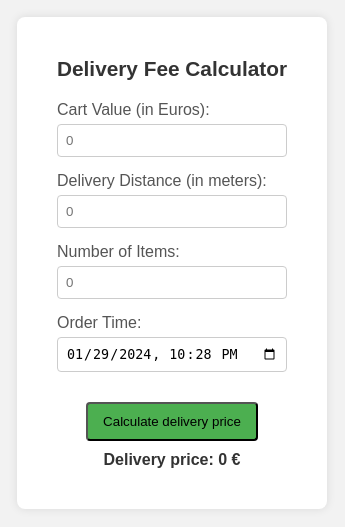
Scenario: Cart value surcharge is calculated for less than 10 euros
Click the button with test id "calculateButton" at (172, 422), box [86,402,258,441]
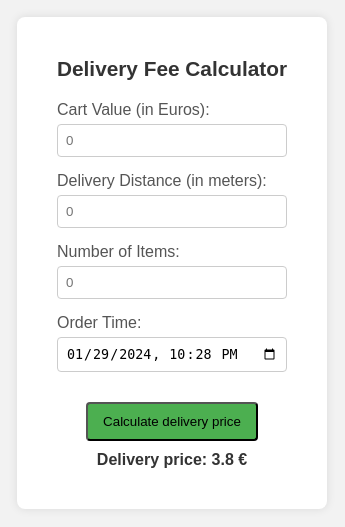
Now the text with test id "fee" reads "3.8", box [212,451,234,468]
